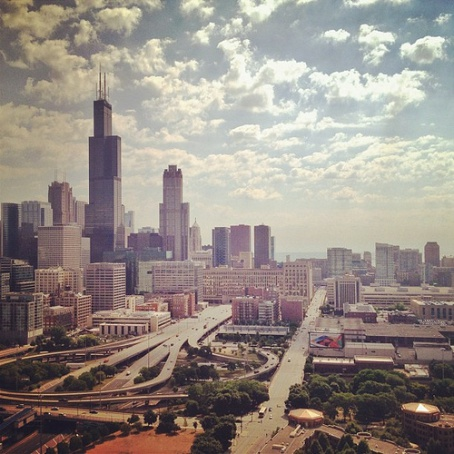building: (81, 92, 128, 249), (153, 156, 194, 258), (206, 263, 312, 301), (80, 264, 129, 316), (150, 261, 200, 311), (1, 291, 45, 342), (34, 223, 81, 267), (91, 312, 169, 335), (331, 270, 372, 310), (44, 176, 75, 227), (228, 222, 255, 264), (370, 242, 400, 279), (19, 202, 55, 229), (211, 224, 231, 264), (253, 222, 273, 262), (397, 246, 422, 276), (326, 245, 354, 270), (419, 238, 441, 269)
road: (93, 307, 229, 403), (266, 295, 329, 415)
sky: (6, 1, 454, 183)
